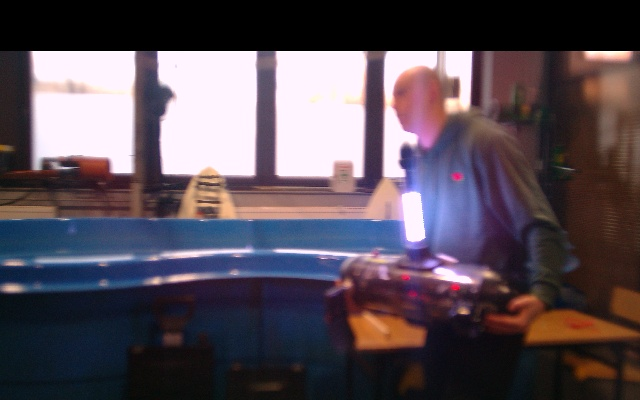white: (403, 192, 425, 243)
